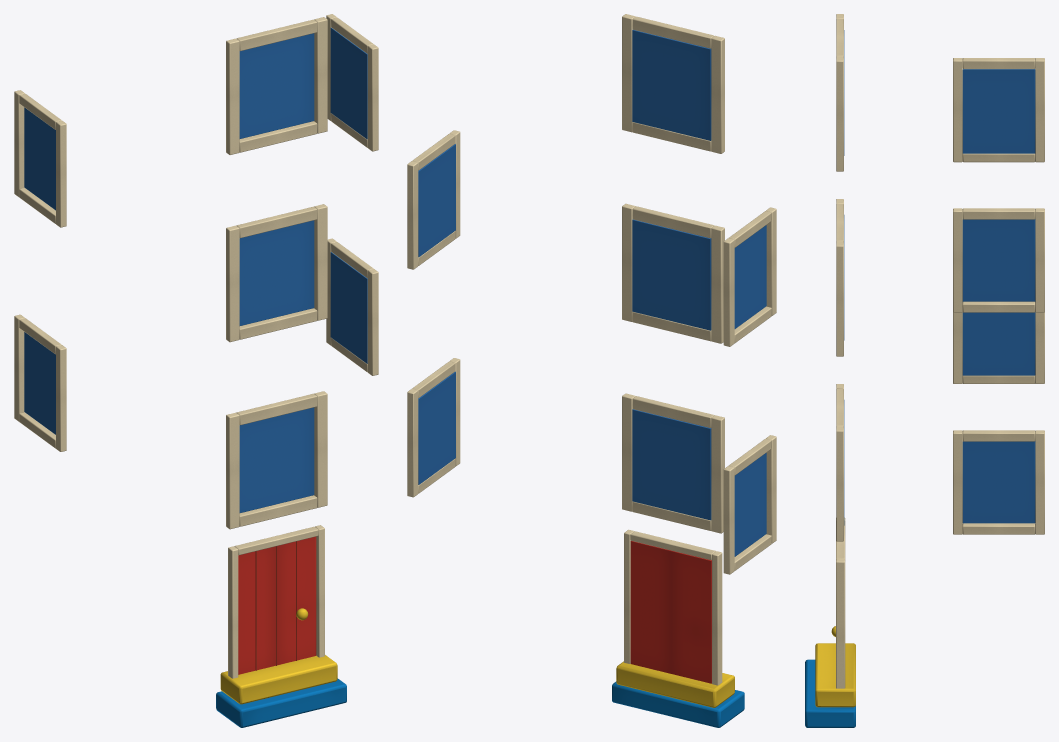
Rendered from 5-framed-windows-door-and-steps.fbx.
3 renders of one model, left to right at view 1: azimuth 30°, elevation 25°; view 2: azimuth 150°, elevation 25°; view 3: azimuth 270°, elevation 25°, orthographic. The views are drawn at different scales.
Parts seen in each view (by area): view 1: framed-windows-door-and-steps; view 2: framed-windows-door-and-steps; view 3: framed-windows-door-and-steps.
Part boxes in pixels (left/top/right/bottom): framed-windows-door-and-steps: left=14, top=14, right=378, bottom=727; framed-windows-door-and-steps: left=407, top=14, right=776, bottom=727; framed-windows-door-and-steps: left=805, top=14, right=1044, bottom=727.
Bounding box in the file's own units: 7130 × 14400 × 4700.
Materials: 1 (1 with a texture image).
